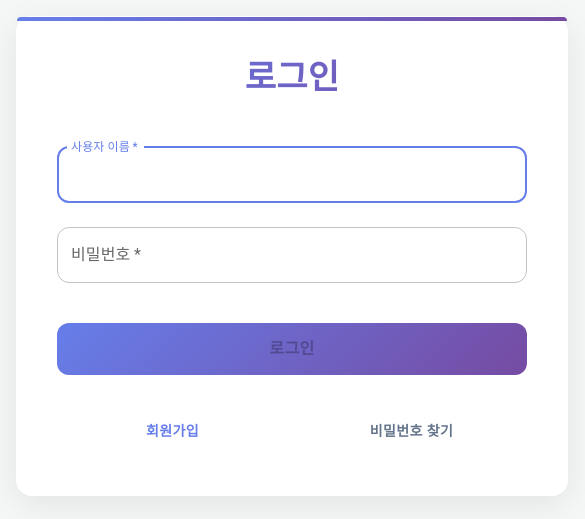
LoginPage › should disable login button during loading
Type "testuser" into the field labelled "사용자 이름 *" at (292, 175), box [57,147,527,203]
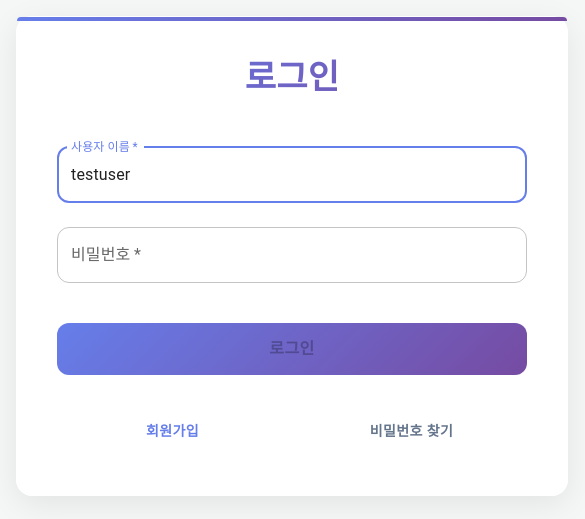
Type "password123" into the password field labelled "비밀번호 *" at (292, 255), box [57,227,527,283]
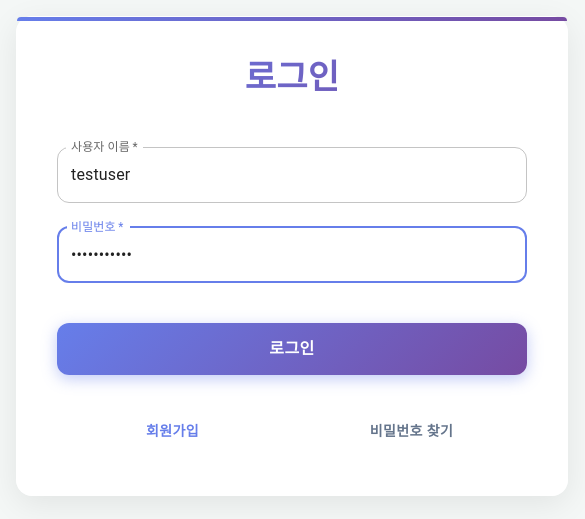
Click the button "로그인" at (292, 349), box [57,323,527,375]
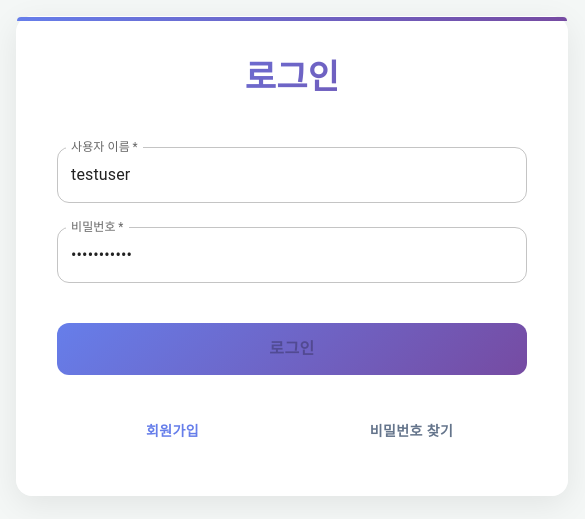
Check: the button "로그인" is disabled, box [57,323,527,375]
